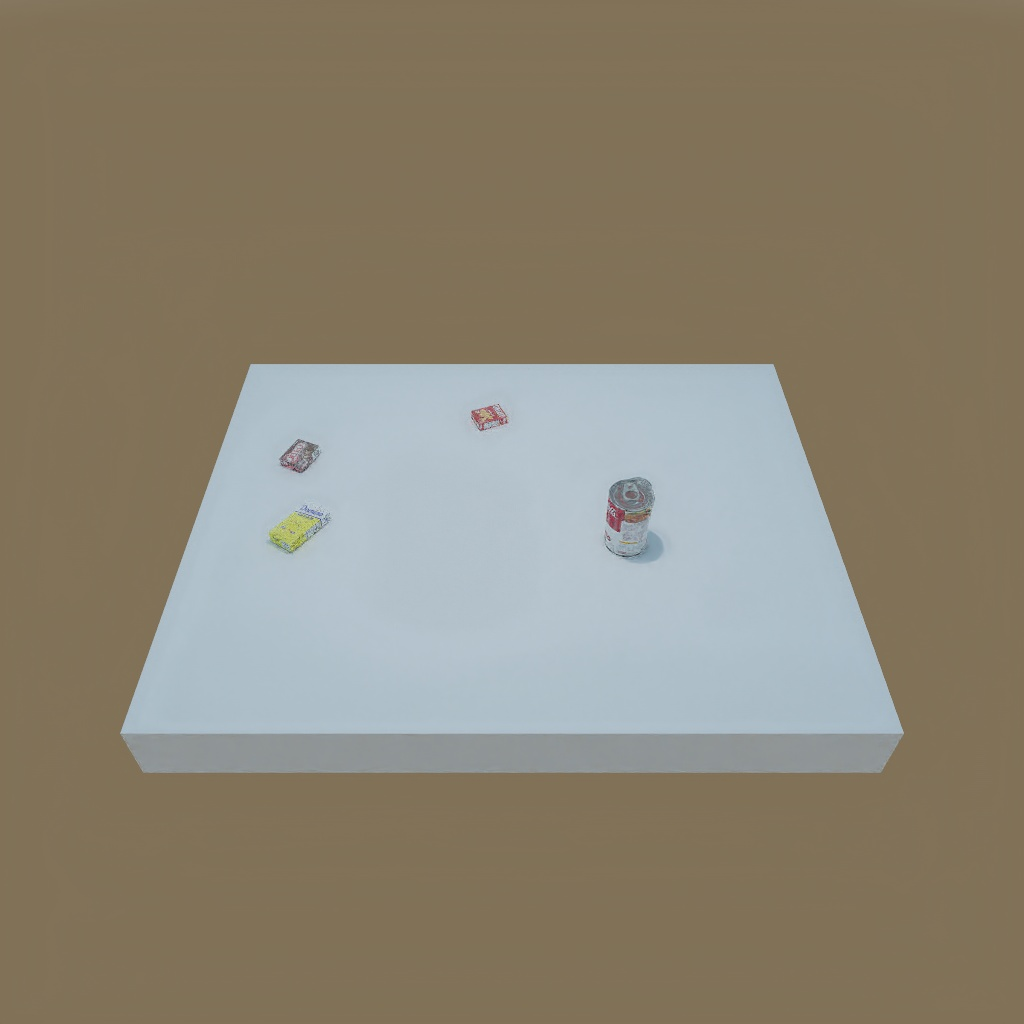pudding_box: (275, 436, 321, 474)
tomato_soup_can: (601, 475, 652, 562)
